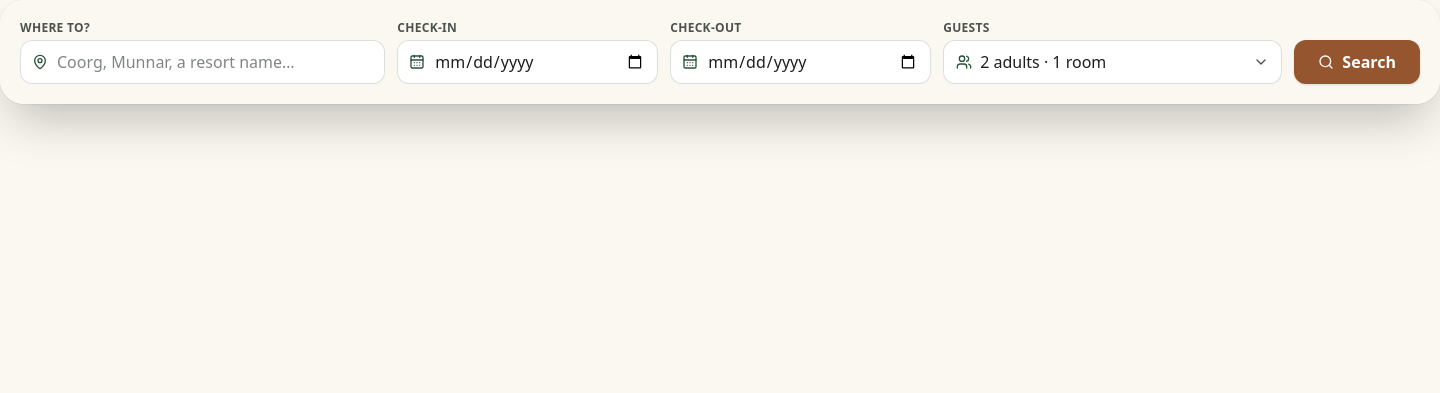
Scenario: SearchWidget › keeps at least one adult per room when rooms are increased
Click the button "2 adults · 1 room". click: click(1043, 62)
box: [943,40,1282,84]
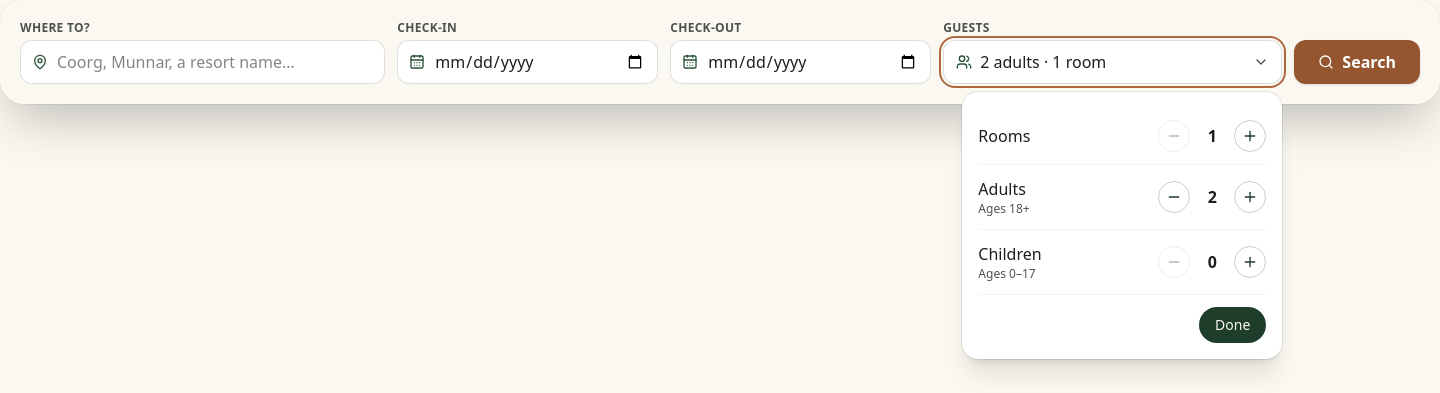
Click the button named "Increase rooms". click: click(1250, 136)
box: [1234,120,1266,152]
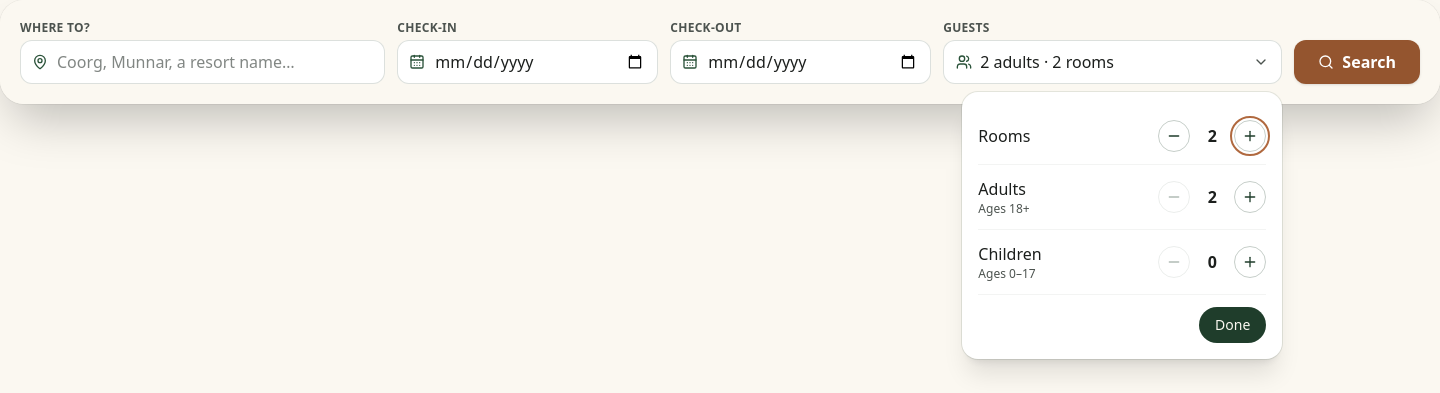
Click the button named "Increase rooms". click: click(1250, 136)
box: [1234,120,1266,152]
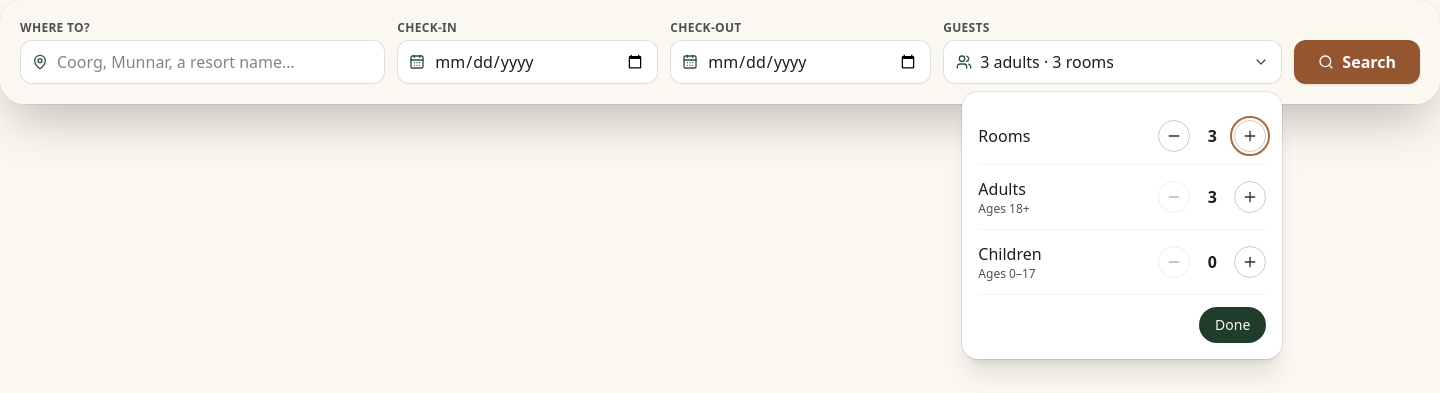
expect the button named "Decrease adults" is disabled: met, box [1158,181,1190,213]
expect the button "3 adults · 3 rooms" is shown: met, box [943,40,1282,84]
